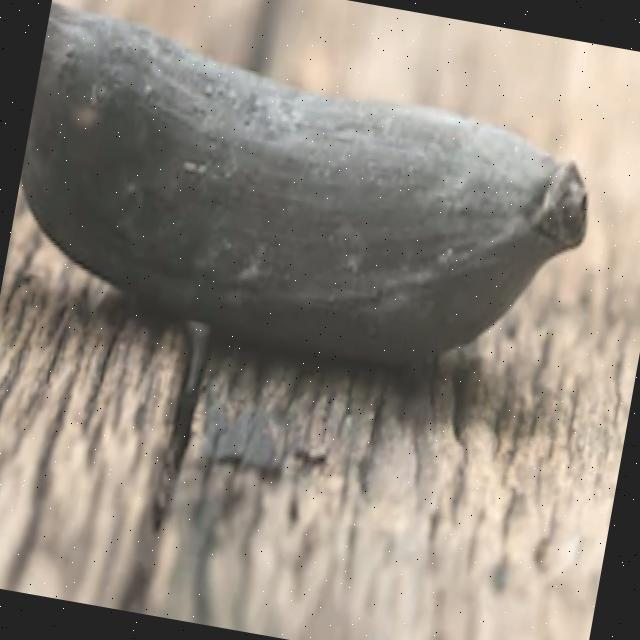Rotten: (0, 0, 635, 421)
